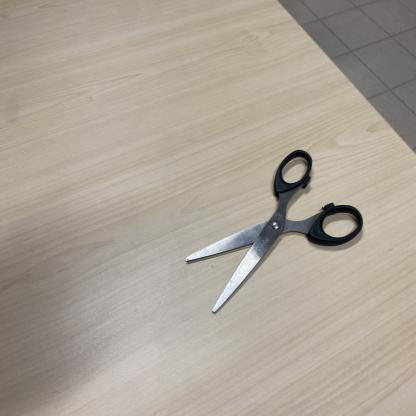scissors: (185, 148, 366, 317)
